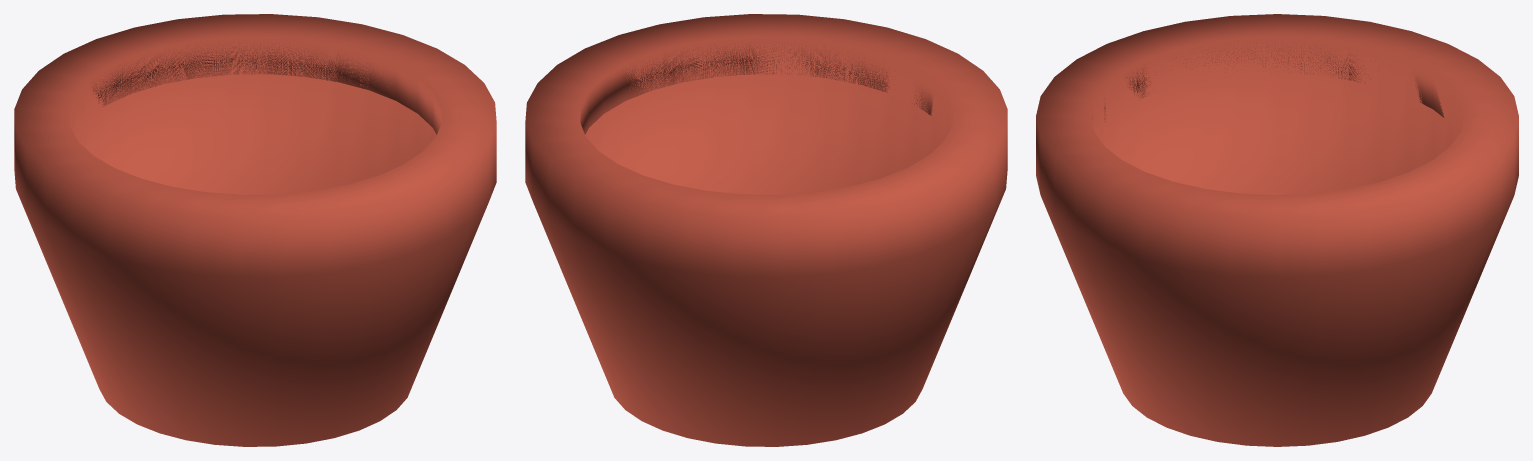
Rendered from MDb .fbx.
3 renders of one model, left to right at view 1: azimuth 30°, elevation 25°; view 2: azimuth 150°, elevation 25°; view 3: azimuth 270°, elevation 25°, orthographic.
Visible parts, largest first — view 1: Circle.016; view 2: Circle.016; view 3: Circle.016.
Boxes of the visible parts, x1=… form: Circle.016: x1=14, y1=14, x2=496, y2=446; Circle.016: x1=525, y1=14, x2=1007, y2=446; Circle.016: x1=1036, y1=14, x2=1518, y2=446.
Size of the model in its own units: 24.28 by 14.67 by 24.28.
